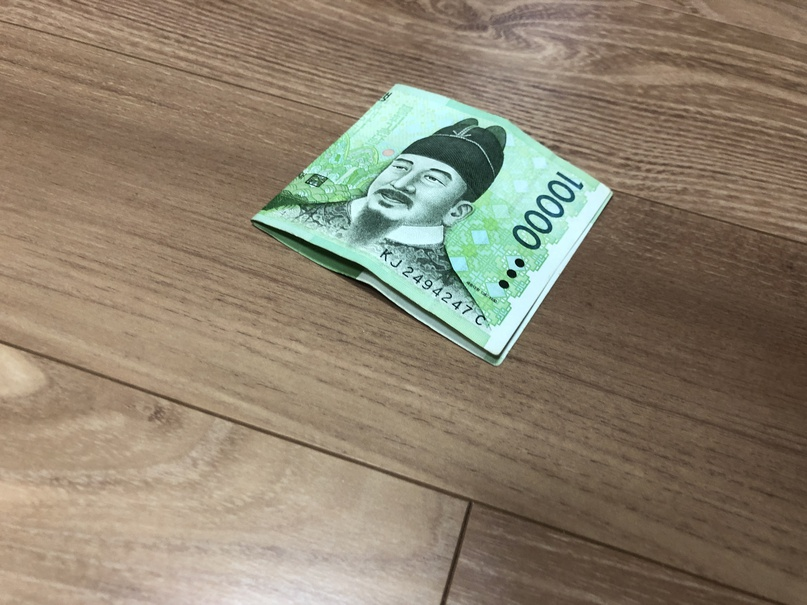10000won: (248, 82, 613, 366)
